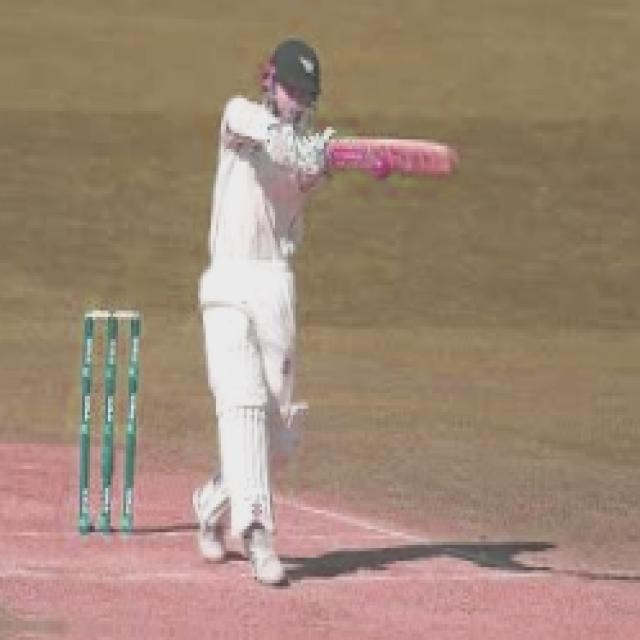toe: (436, 143, 461, 184)
